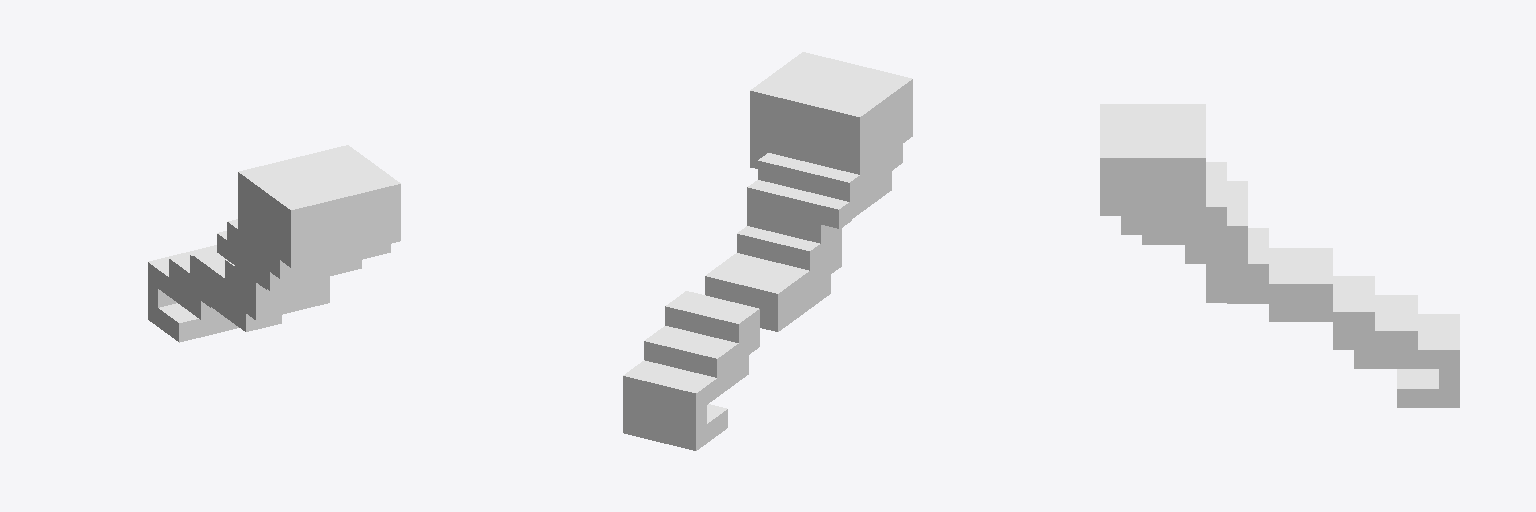
File: hard-1.obj
3 renders of one model, left to right at view 1: azimuth 30°, elevation 25°; view 2: azimuth 150°, elevation 25°; view 3: azimuth 270°, elevation 25°, orthographic.
Parts seen in each view (by area): view 1: object 1; view 2: object 1; view 3: object 1.
Part boxes in pixels (x1,y1,x2,y2): object 1: (148,145,400,342); object 1: (623,52,912,450); object 1: (1100,104,1459,407).
Bounding box in the file's own units: 0.6 × 1.3 × 1.7.